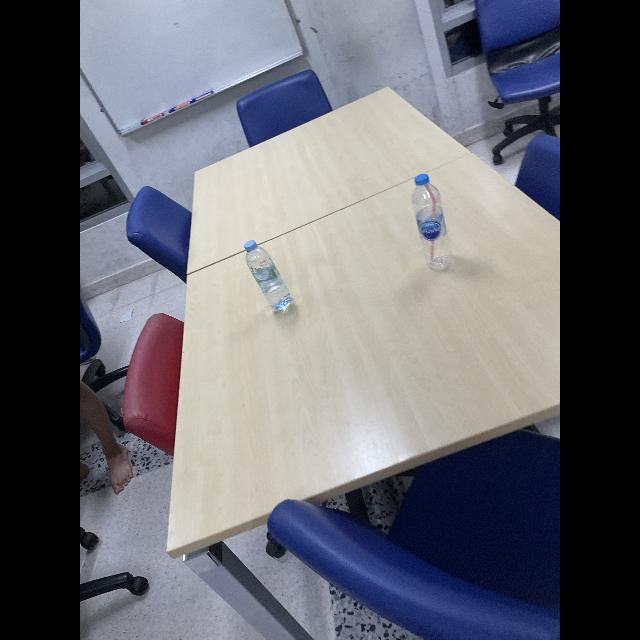plastic_bottle: (412, 174, 454, 272), (244, 240, 296, 314)
plastic_bottle_cap: (242, 240, 258, 252)
straw: (424, 182, 436, 270)
